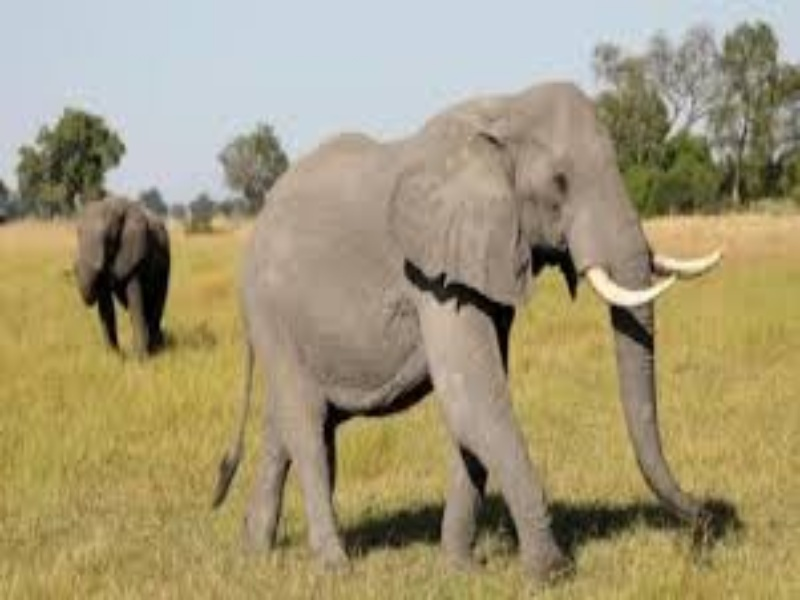elephant: (191, 82, 773, 555), (31, 172, 186, 370)
